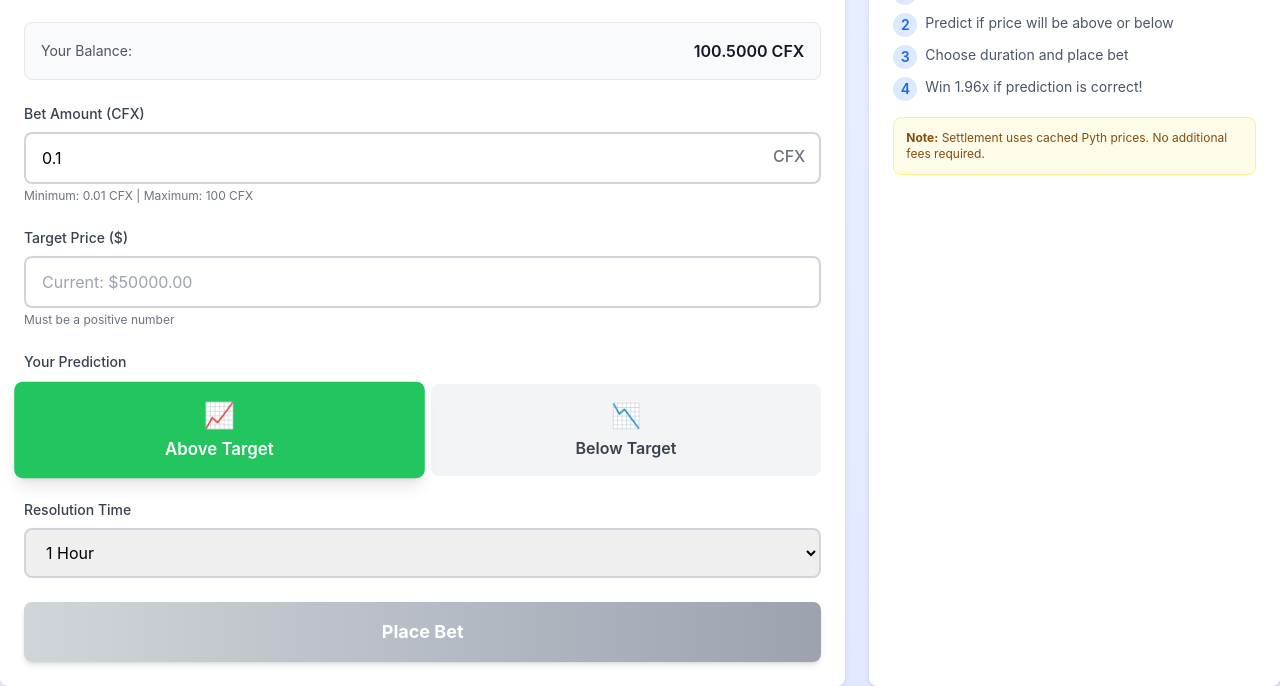
Test: BettingInterface Component › Bet Summary › shows prediction direction in summary
(page scrolled)
Click the button "📉 Below Target".
click(626, 430)  # box [431, 384, 821, 476]
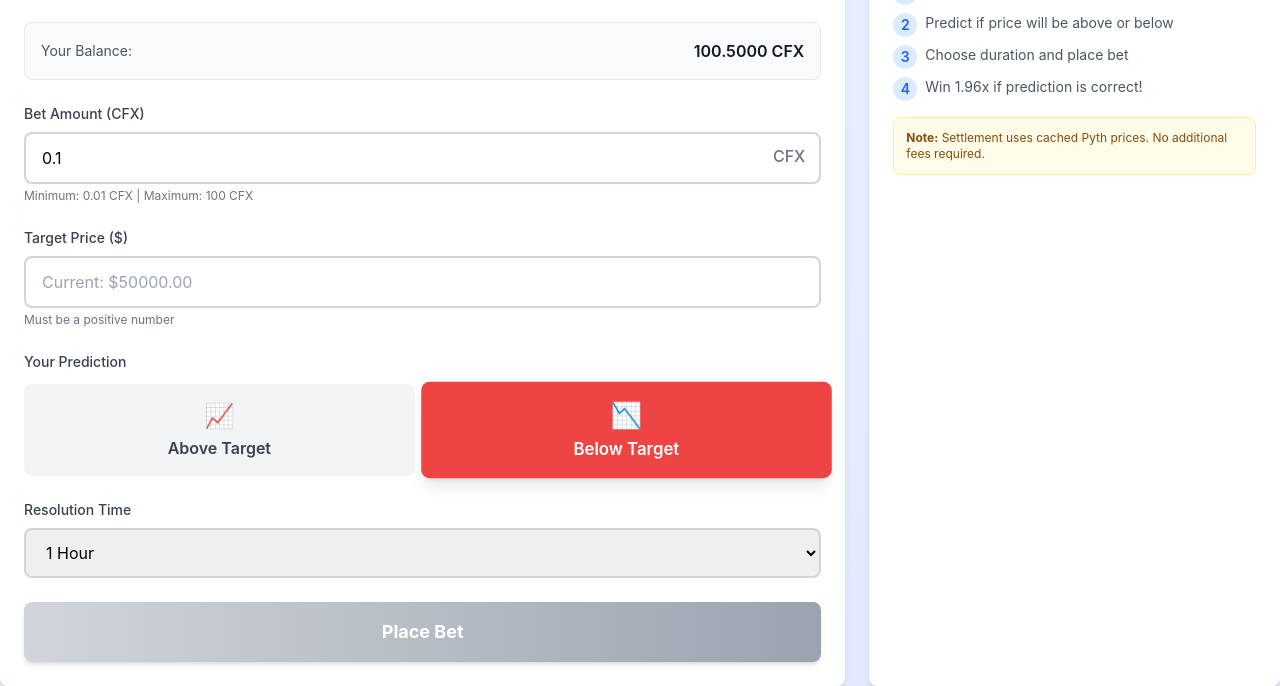
Type "45000" into the number field with placeholder "Current: $50000.00".
click(423, 282); type("45000")  # box [24, 256, 821, 308]
(page scrolled)
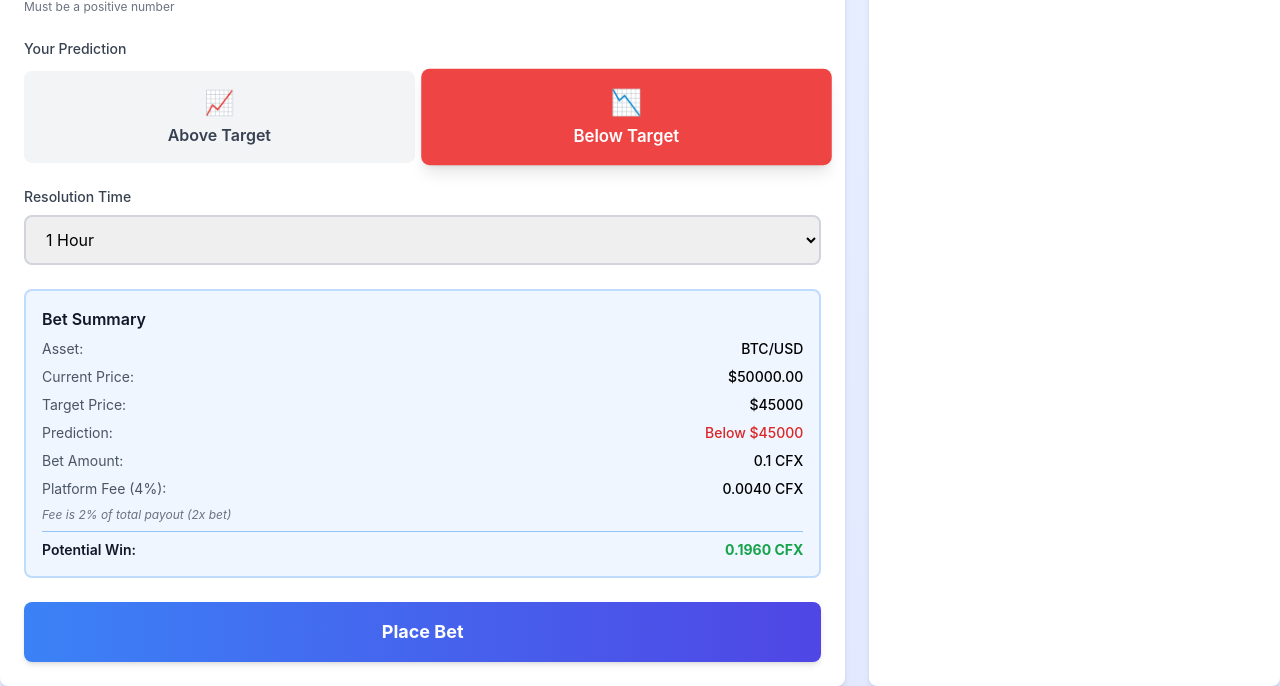
Result: the text "Bet Summary" shows "Below" at [705, 424, 746, 441]
